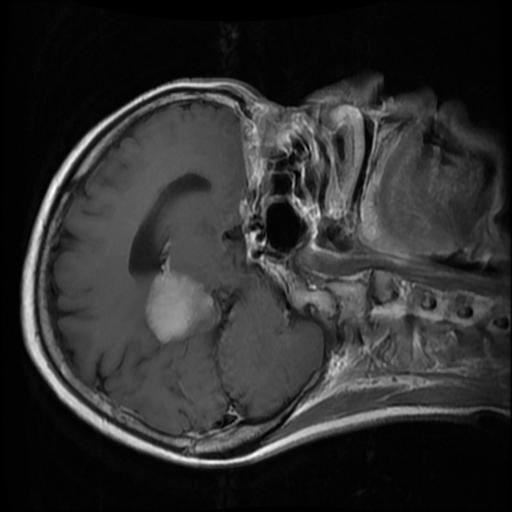meningioma: (144, 270, 220, 343)
